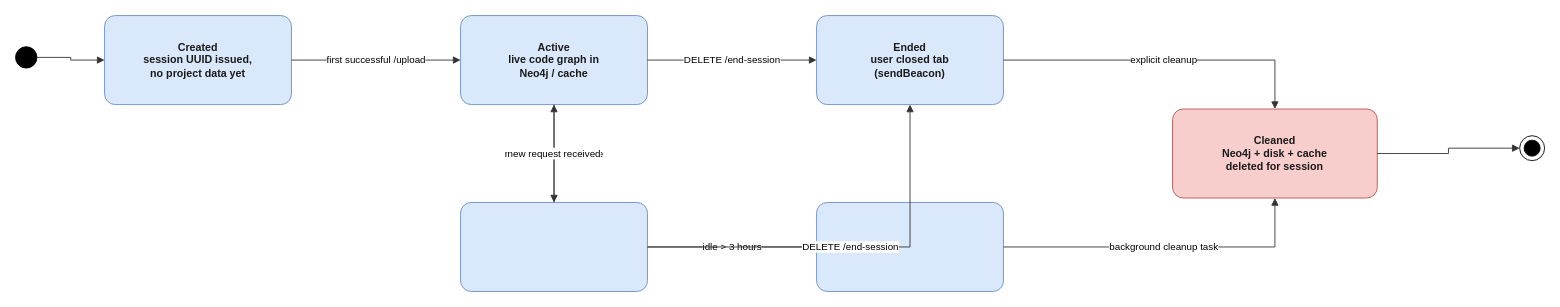
The diagram is 1560 pixels wide and 307 high, and some of its shapes have lost their labels. Here are the shapes that lost their labels. From the top down, the box of each, then its label:
(460, 202, 647, 291): Idle no recent requests
(816, 202, 1003, 291): Expired >3h inactivity, picked up by 30-min cleanup task
